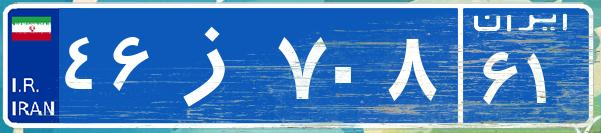0: (330, 28, 385, 110)
1: (525, 38, 570, 115)
4: (57, 26, 110, 107)
6: (475, 38, 525, 113), (110, 28, 158, 105)
7: (273, 28, 330, 110)
8: (385, 28, 445, 110)
ز: (158, 15, 273, 115)
